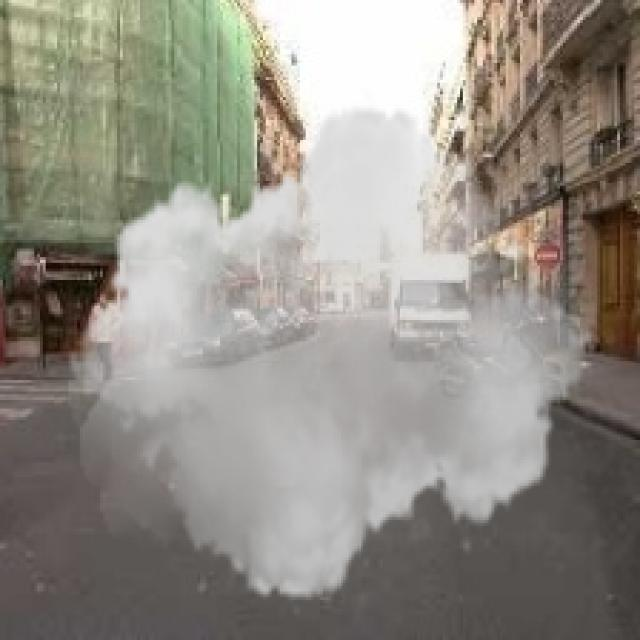smoke: (69, 86, 597, 620)
